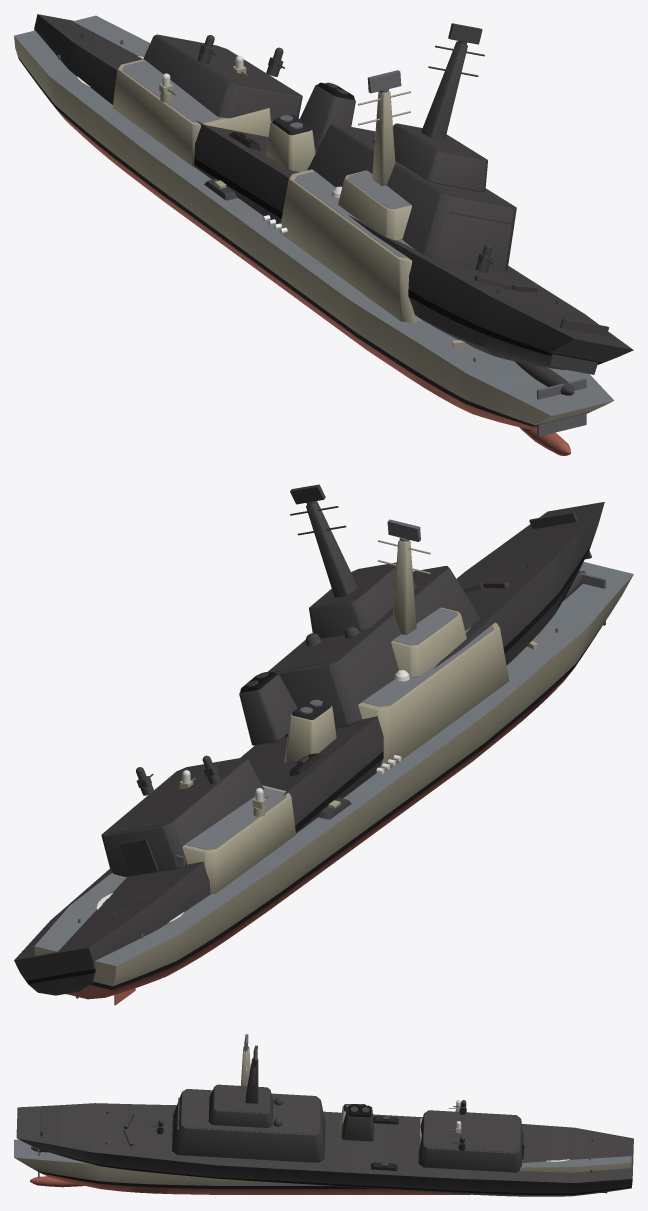
Rendered from landingShip__ivan_gren_class.glb.
3 views of the same model, one above another, from view 1: azimuth 30°, elevation 25°; view 2: azimuth 150°, elevation 25°; view 3: azimuth 270°, elevation 25° (orthographic). The views are drawn at different scales.
Visible parts, largest first — view 1: Hull_Mesh, Wreck; view 2: Wreck, Hull_Mesh; view 3: Wreck, Hull_Mesh.
Part boxes in pixels (<box>): Hull_Mesh: <box>14,15,614,455</box>; Wreck: <box>34,14,633,395</box>; Wreck: <box>14,484,604,998</box>; Hull_Mesh: <box>34,540,633,1005</box>; Wreck: <box>16,1045,633,1196</box>; Hull_Mesh: <box>14,1047,631,1194</box>.
Size of what is drawn, in the model's own units: 22.91 by 36.7 by 126.
